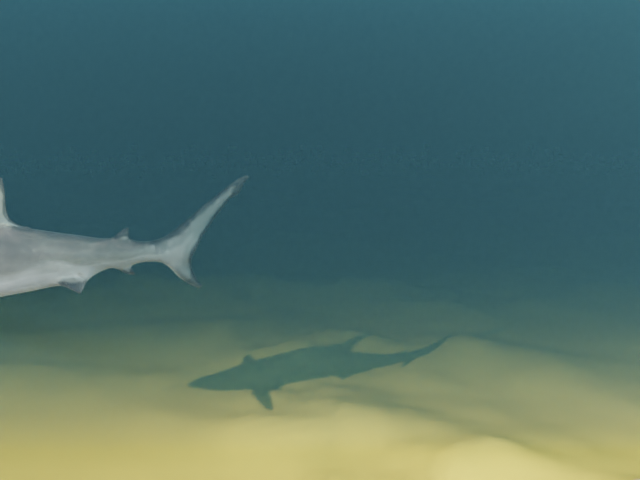Carribean Shark.001: (0, 175, 249, 336)
